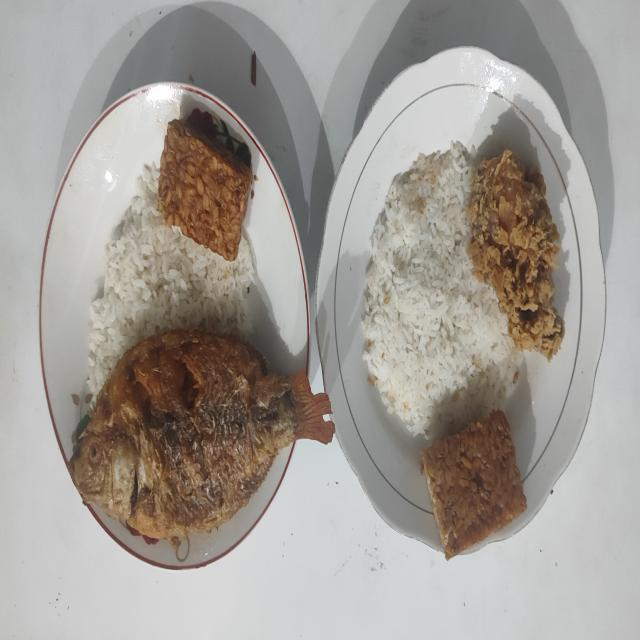ikan_mujair: (68, 330, 334, 550)
nasi_putih: (362, 142, 523, 436), (88, 163, 256, 403)
tempe_goreng: (420, 410, 527, 559), (158, 120, 253, 261)
